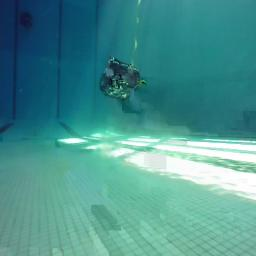Side: (99, 57, 148, 102)
